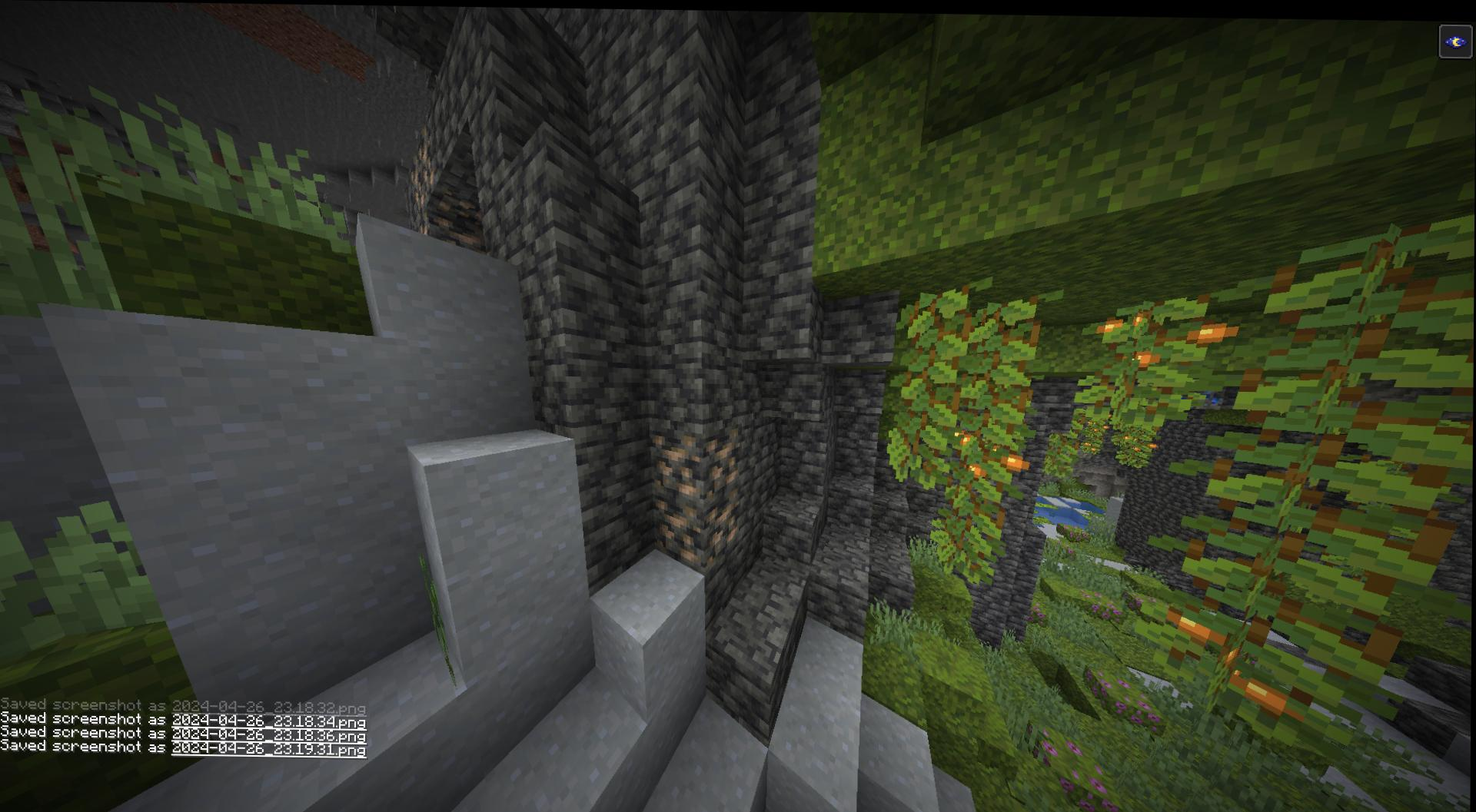iron ore: (404, 144, 486, 246), (651, 427, 706, 496), (652, 495, 702, 562), (707, 491, 741, 557), (710, 426, 740, 490)
